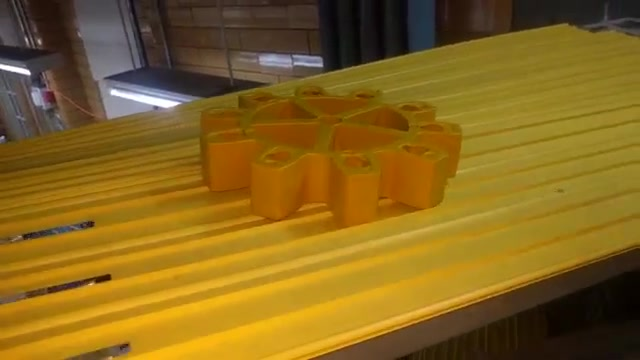gear: (187, 72, 468, 230)
